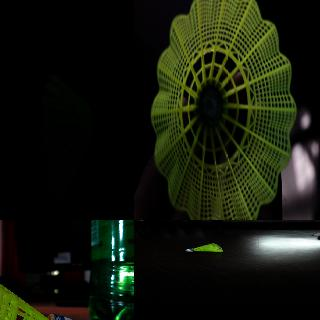shuttlecock: (150, 1, 297, 219), (42, 74, 104, 201), (0, 253, 86, 319), (186, 243, 223, 252)
